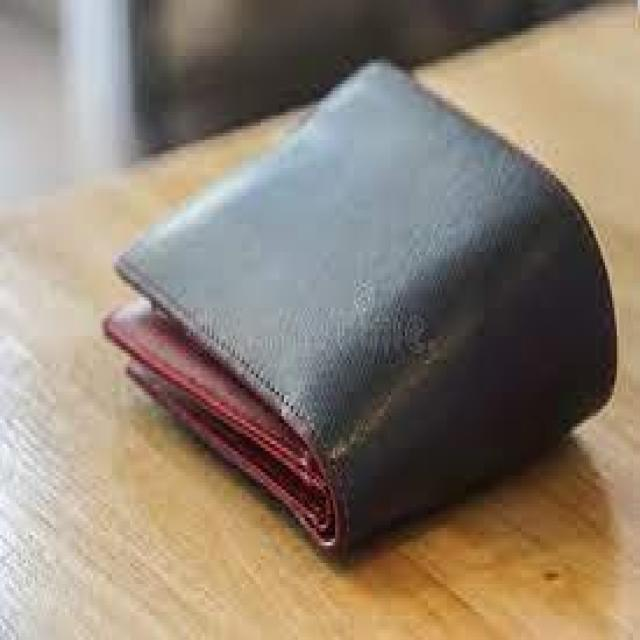cuzdan: (130, 46, 630, 538)
